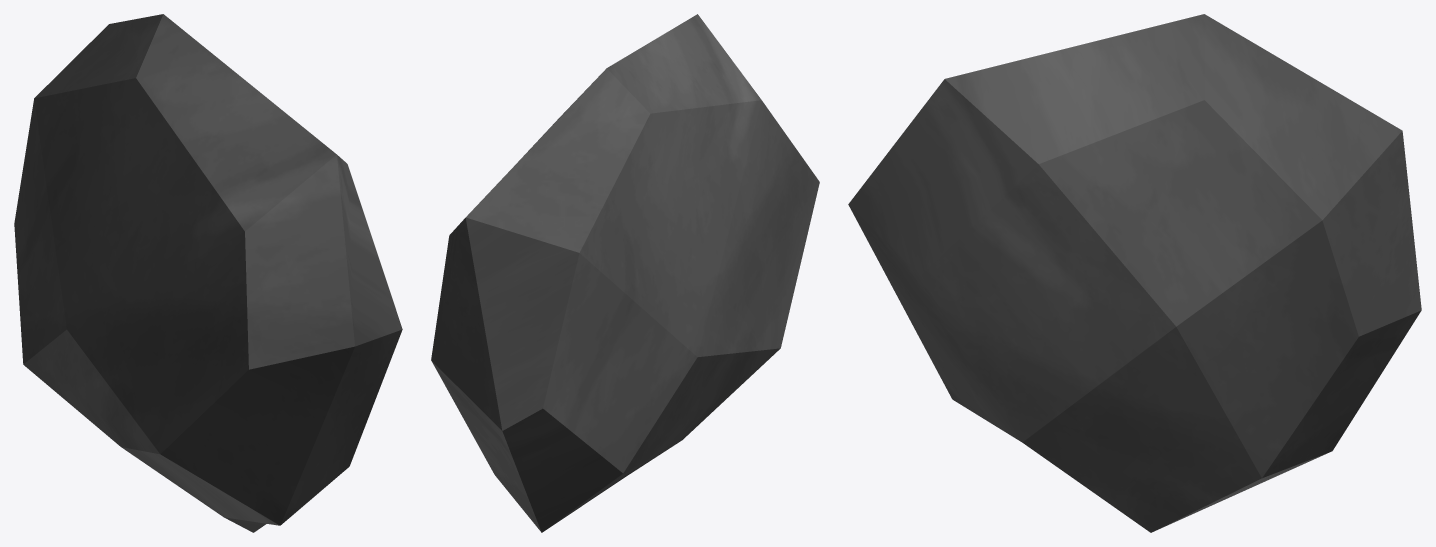
File: Jotunn Throwing Stone 01.fbx
The picture shows the model from 3 angles, left to right: view 1: azimuth 30°, elevation 25°; view 2: azimuth 150°, elevation 25°; view 3: azimuth 270°, elevation 25°; orthographic projection. The views are drawn at different scales.
Visible parts, largest first — view 1: Placeholder Rock; view 2: Placeholder Rock; view 3: Placeholder Rock.
Part boxes in pixels (bbox=[...]): Placeholder Rock: bbox=[14, 14, 402, 532]; Placeholder Rock: bbox=[431, 14, 819, 532]; Placeholder Rock: bbox=[848, 14, 1421, 532].
Bounding box in the file's own units: 30.19 × 68.79 × 72.95.
